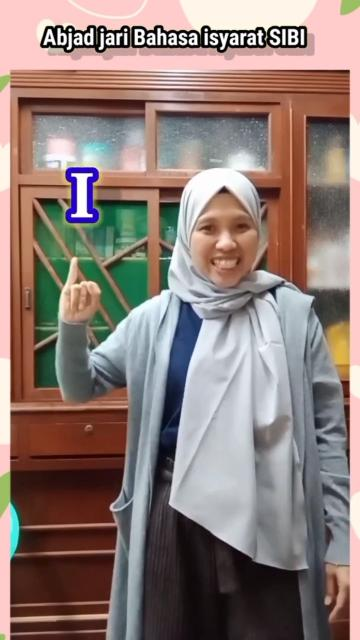I: (58, 254, 104, 326)
